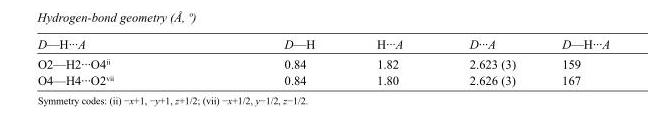table: (36, 37, 609, 86)
table column: (36, 37, 198, 86), (198, 37, 345, 86), (435, 37, 538, 86), (345, 37, 435, 86), (538, 37, 609, 86)
table row: (36, 53, 609, 72), (36, 37, 609, 53), (36, 72, 609, 86)
